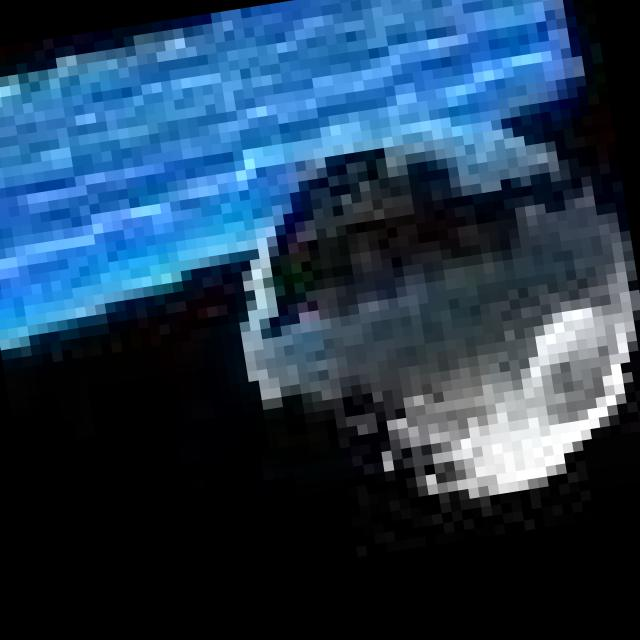Death Star: (203, 98, 640, 544)
